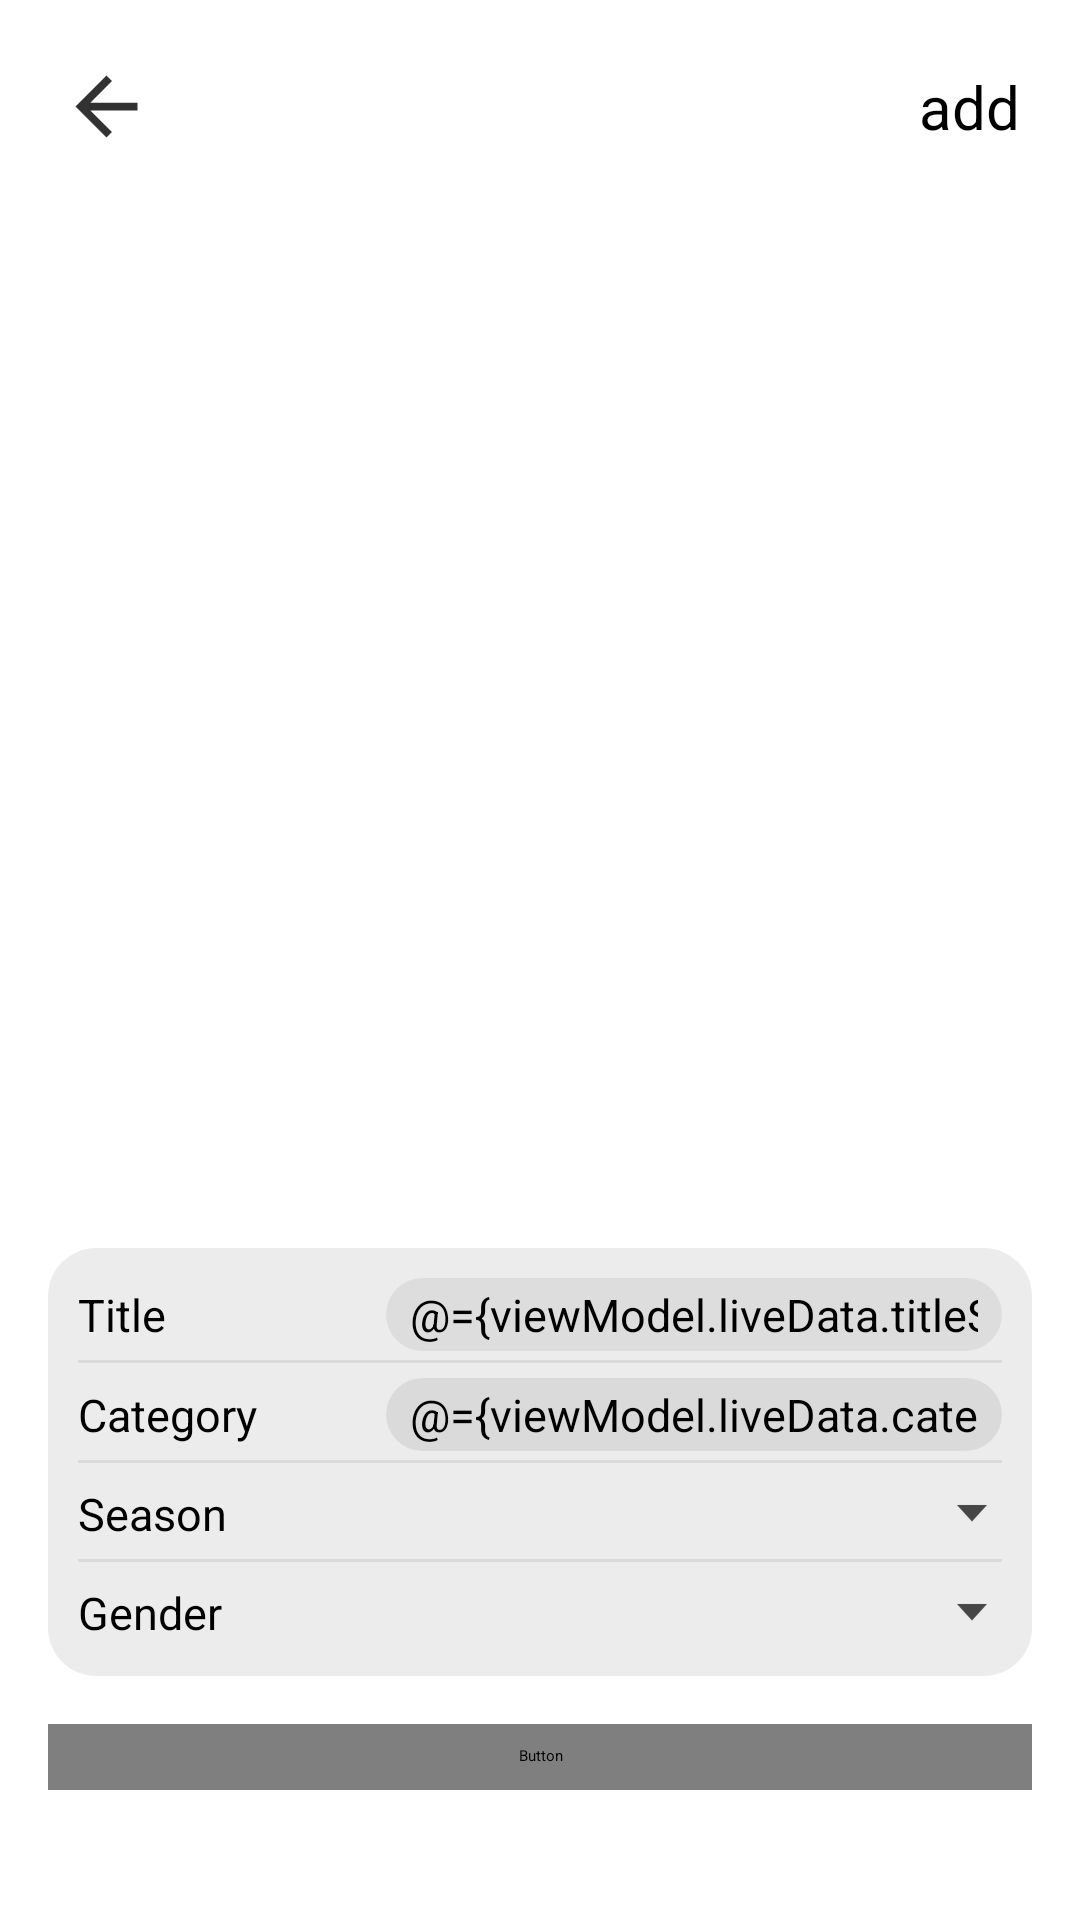

Named icons in this screenshot (1080px x 1920px) and their bounding boxes, (x1, y1, x2, y2):
Back: (75, 75, 138, 138)
